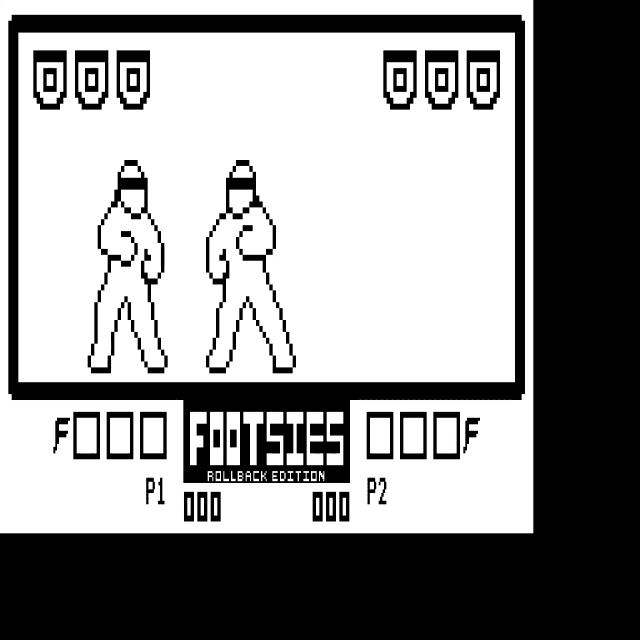Idle: (86, 156, 168, 375)
walkF: (204, 156, 297, 375)
